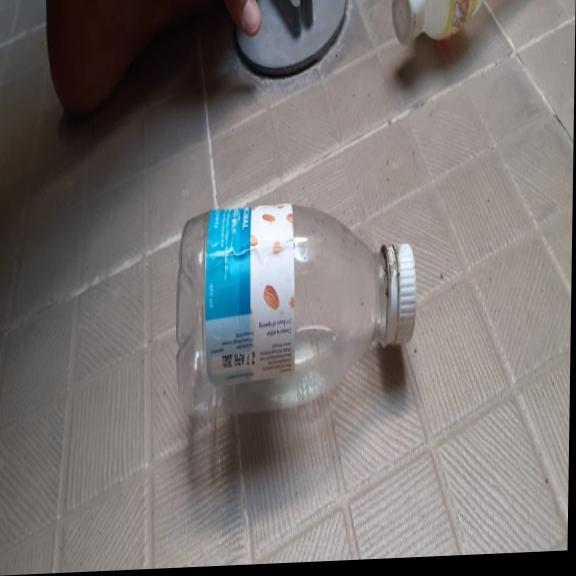Plastik: (175, 194, 420, 425), (390, 0, 517, 49)
